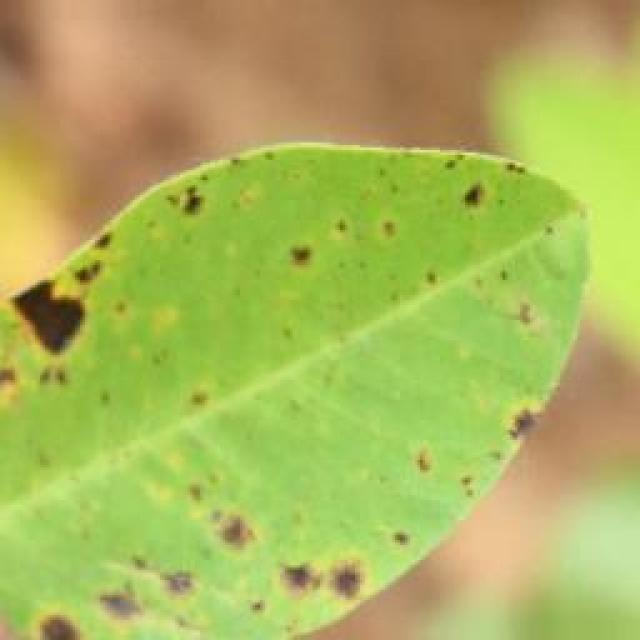Yellowish: (0, 114, 581, 640)
